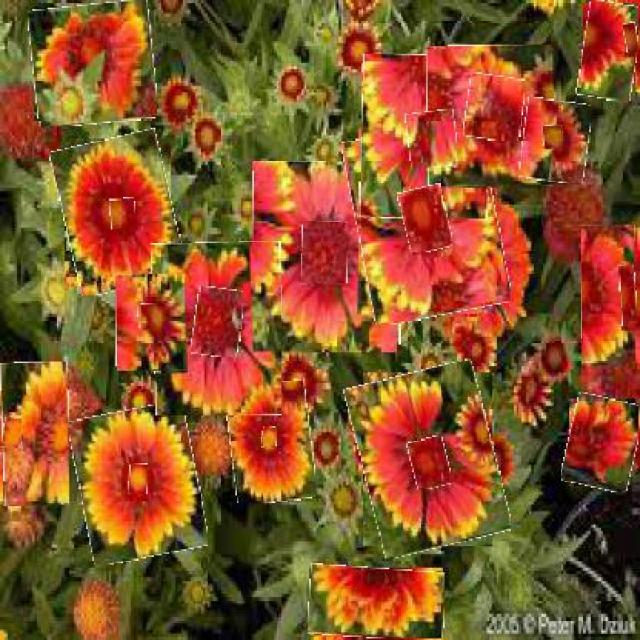Flower: (350, 123, 505, 322), (252, 161, 401, 354), (353, 366, 504, 554), (152, 241, 283, 416), (360, 55, 491, 219), (73, 405, 204, 562), (57, 134, 180, 292), (427, 46, 556, 189), (227, 382, 315, 503), (309, 566, 446, 640), (2, 363, 71, 509), (581, 225, 638, 366), (565, 396, 639, 493), (116, 274, 189, 372), (579, 2, 639, 102), (522, 100, 591, 183), (466, 74, 526, 140), (193, 289, 244, 358), (402, 186, 451, 252), (301, 221, 348, 287), (406, 111, 457, 169), (410, 438, 450, 490), (620, 265, 638, 332), (111, 198, 137, 232), (129, 465, 149, 496), (3, 419, 23, 450), (138, 304, 159, 330), (544, 126, 564, 152), (624, 22, 639, 56), (261, 428, 278, 449)
